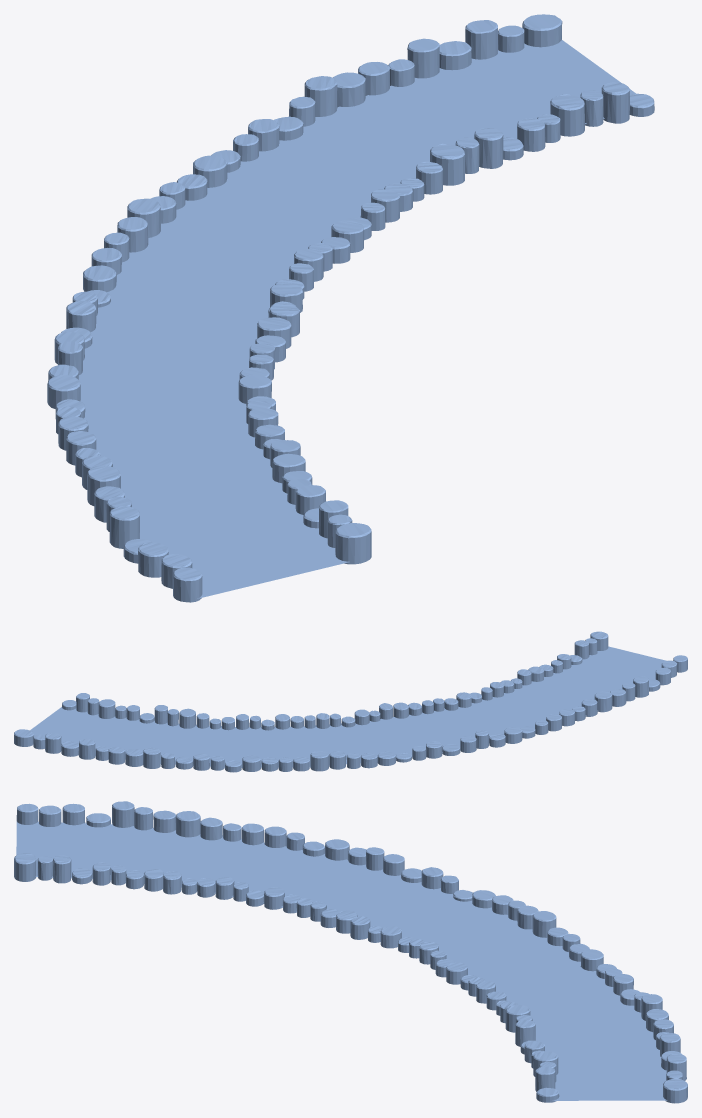
Rendered from road.obj.
3 renders of one model, top to bottom at view 1: azimuth 30°, elevation 25°; view 2: azimuth 150°, elevation 25°; view 3: azimuth 270°, elevation 25°, orthographic. The views are drawn at different scales.
Visible parts, largest first — view 1: object; view 2: object; view 3: object.
Part boxes in pixels (x1,y1,x2,y2): object: (47,14,654,602); object: (14,631,687,772); object: (14,801,687,1103).
Bounding box in the file's own units: 3.6 × 0.1217 × 3.6.
